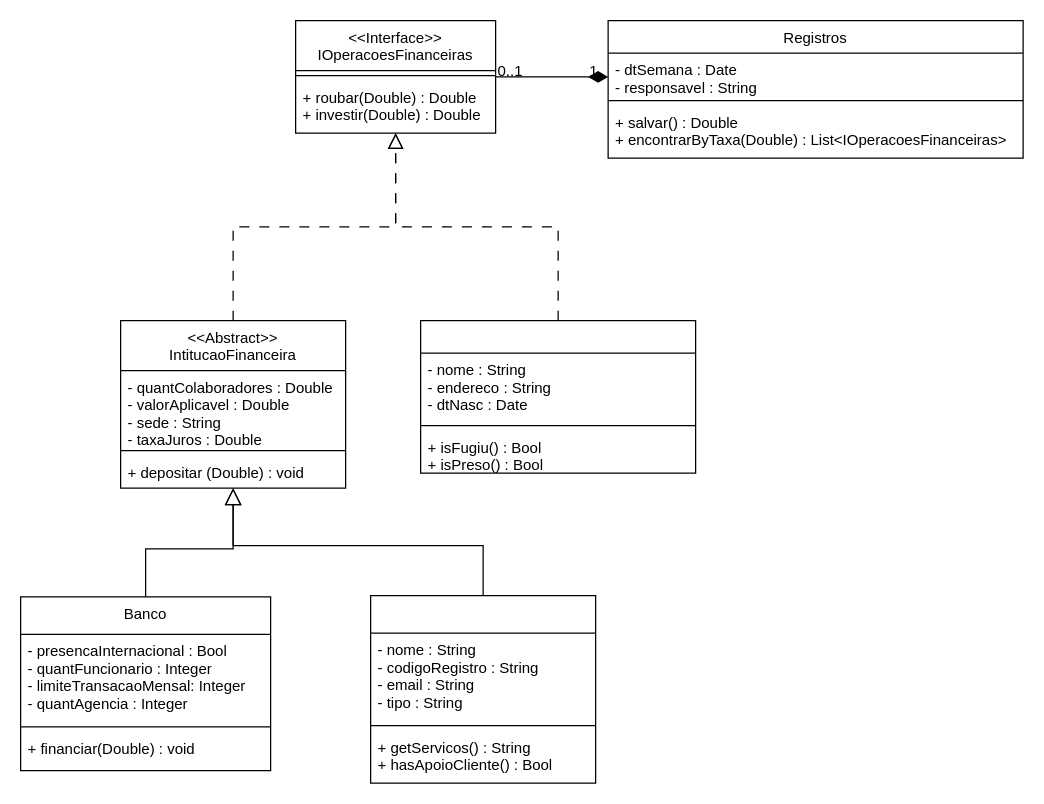
This 1044x804 diagram has some shape labels left out. Here are the shapes that lost their labels. From the top down, the box of each, then its label:
(419, 319, 696, 473): Ladrao
(369, 594, 596, 783): Corretora
